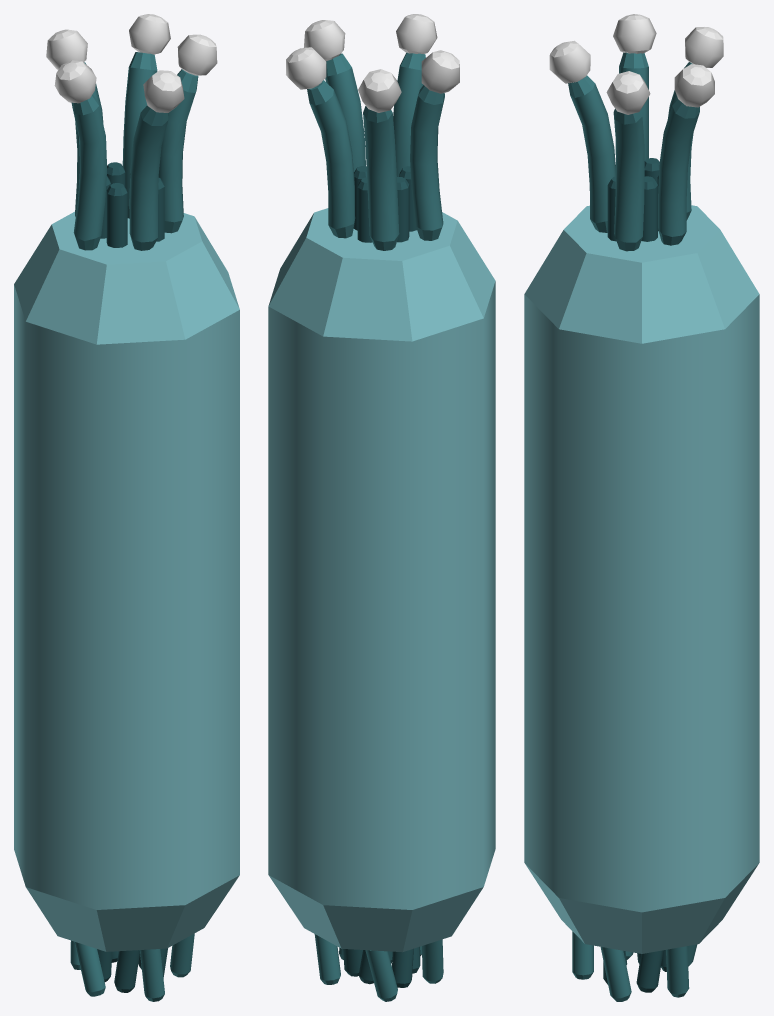
File: M13BacteriophageFINAL.fbx
3 views of the same model, side by side, from view 1: azimuth 30°, elevation 25°; view 2: azimuth 150°, elevation 25°; view 3: azimuth 270°, elevation 25° (orthographic).
Visible parts, largest first — view 1: phagebody, gp3, gp3-2, gp3-4, gp3-5, ligand5, ligand, ligand3, gp6-3, ligand4, ligand2, gp9 (+3 smaller); view 2: phagebody, gp3-5, gp3-3, gp3, gp3-2, gp3-4, ligand5, ligand2, ligand4, ligand, ligand3, gp9-5 (+5 smaller); view 3: phagebody, gp3-5, gp3-4, gp3-2, ligand4, ligand, ligand5, ligand3, ligand2, gp9-3, gp9-2, gp3 (+3 smaller).
Boxes of the visible parts, x1,y1,x2,y2 form: phagebody: (14, 211, 239, 951); gp3: (72, 94, 107, 250); gp3-2: (129, 105, 168, 250); gp3-4: (158, 69, 198, 233); gp3-5: (122, 52, 157, 218); ligand5: (54, 60, 96, 103); ligand: (143, 70, 184, 112); ligand3: (177, 34, 217, 75); gp6-3: (106, 183, 127, 247); ligand4: (129, 14, 170, 54); ligand2: (46, 29, 87, 69); gp9: (139, 949, 164, 1001); phagebody: (268, 208, 495, 952); gp3-5: (307, 80, 355, 238); gp3-3: (363, 106, 399, 250); gp3: (410, 85, 444, 240); gp3-2: (393, 52, 425, 176); gp3-4: (325, 53, 365, 171); ligand5: (421, 50, 459, 93); ligand2: (358, 69, 401, 112); ligand4: (286, 47, 326, 89); ligand: (396, 14, 437, 54); ligand3: (304, 20, 345, 61); gp9-5: (365, 950, 397, 1001); phagebody: (524, 205, 759, 953); gp3-5: (658, 99, 699, 245); gp3-4: (613, 109, 644, 251); gp3-2: (568, 75, 615, 232); ligand4: (674, 64, 714, 107); ligand: (549, 40, 590, 83); ligand5: (613, 14, 656, 53); ligand3: (606, 71, 650, 114); ligand2: (685, 27, 723, 67); gp9-3: (600, 947, 631, 1001); gp9-2: (666, 946, 689, 997); gp3: (619, 52, 648, 160).
Bounding box in the file's own units: 17.71 × 77.83 × 17.71.
